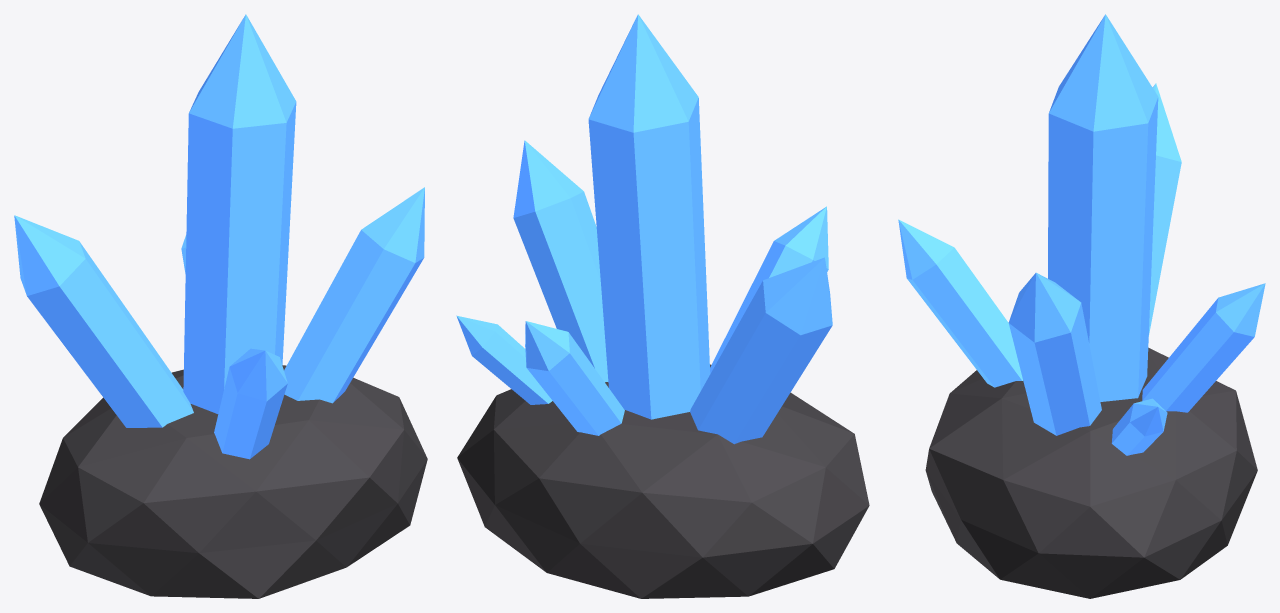
The model's file is crystal-cluster.glb.
3 renders of one model, left to right at view 1: azimuth 30°, elevation 25°; view 2: azimuth 150°, elevation 25°; view 3: azimuth 270°, elevation 25°, orthographic. The views are drawn at different scales.
Parts seen in each view (by area): view 1: CrystalCluster; view 2: CrystalCluster; view 3: CrystalCluster.
Part boxes in pixels (x1,y1,x2,y2): CrystalCluster: [14, 14, 427, 598]; CrystalCluster: [456, 14, 869, 598]; CrystalCluster: [898, 14, 1265, 598].
Bounding box in the file's own units: 1.25 × 1.71 × 1.07.
